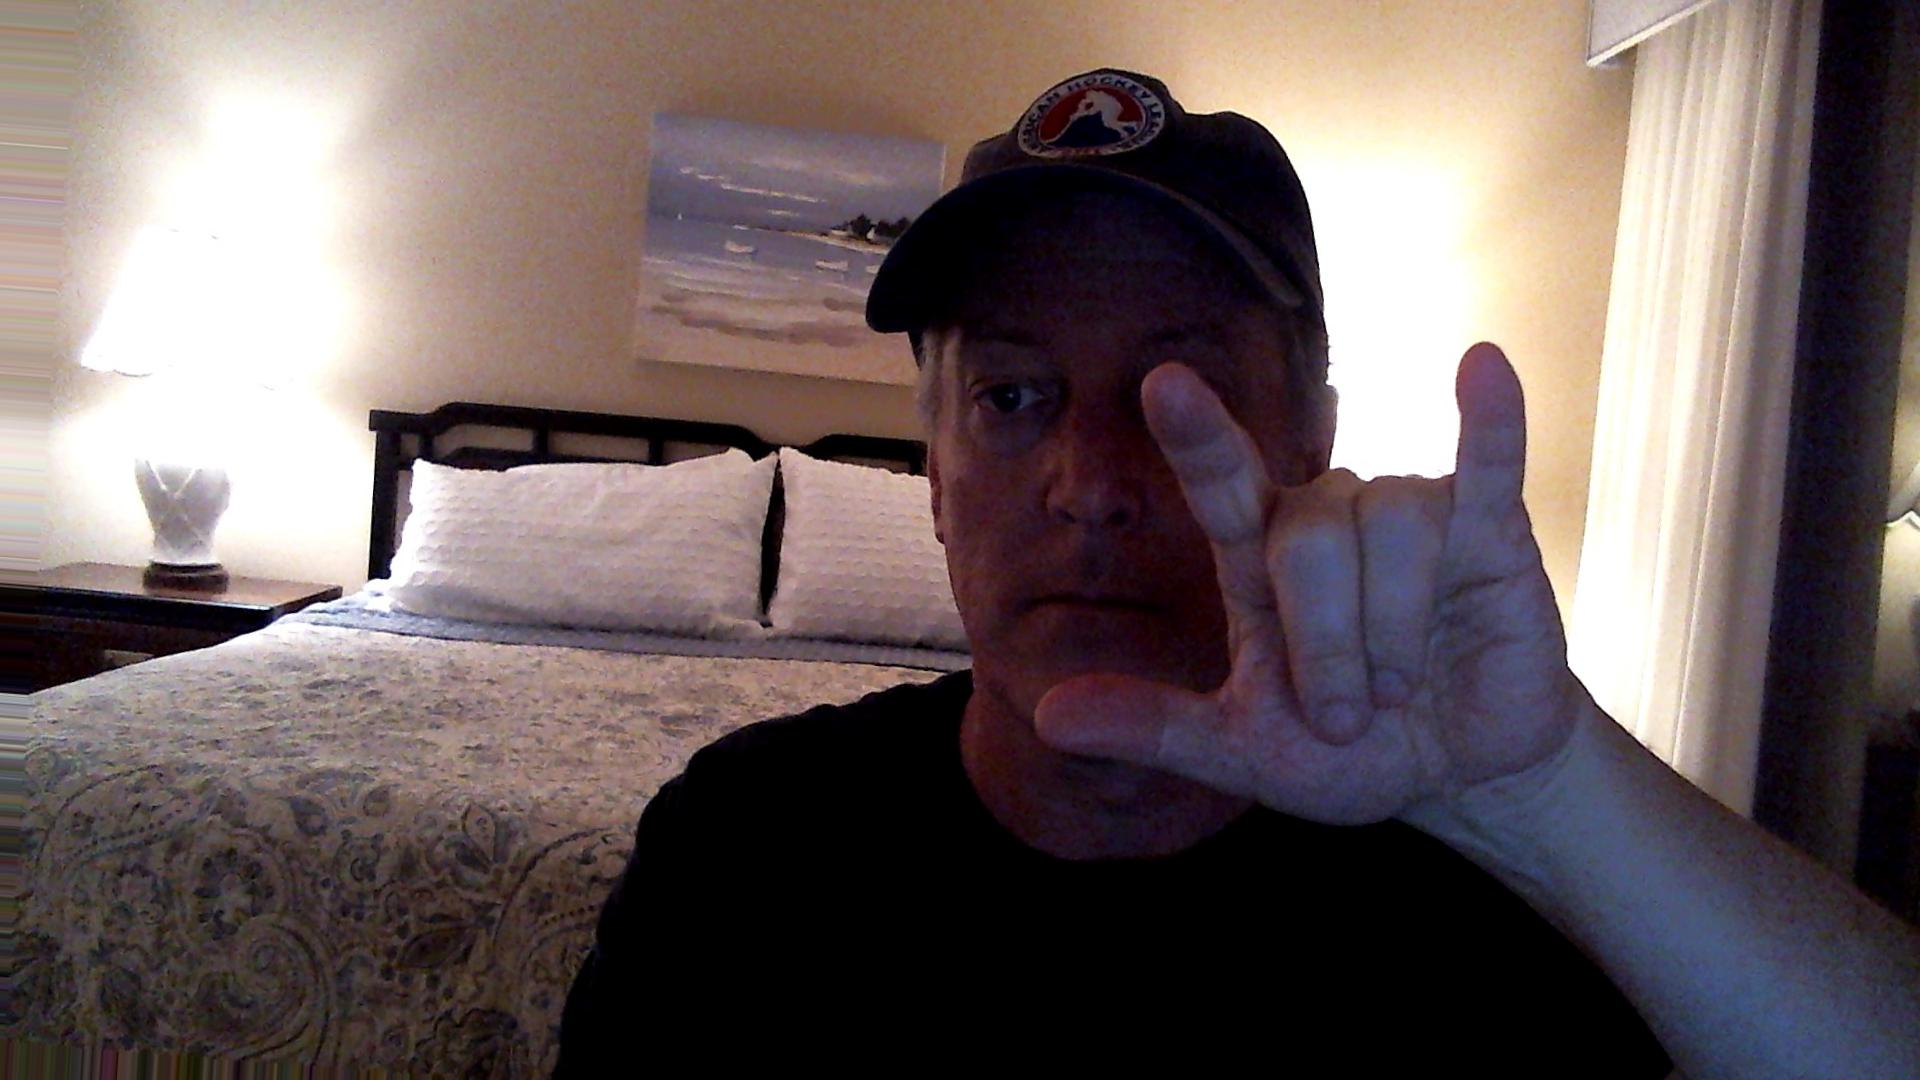I Love You: (1025, 332, 1623, 844)
